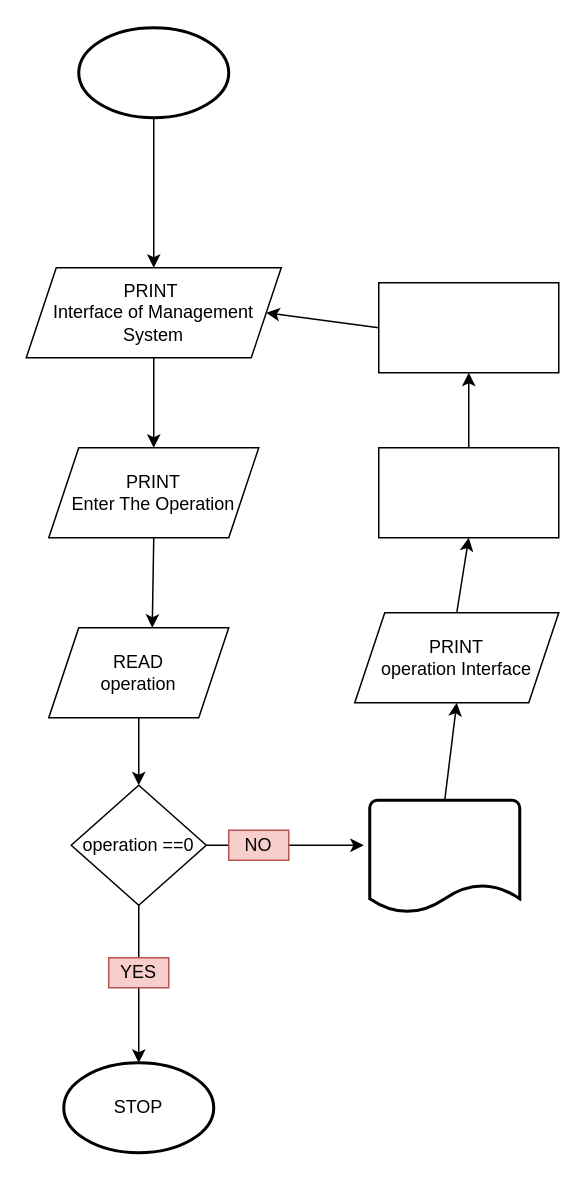
The diagram is 585 pixels wide and 1179 high, and some of its shapes have lost their labels. Each missing label, with the centre of its shape:
EXECUTE operation commands: [468,492]
START: [153,72]
sys("cls"): [468,327]
termproject.txt and AvailableBooks.txt: [444,856]
